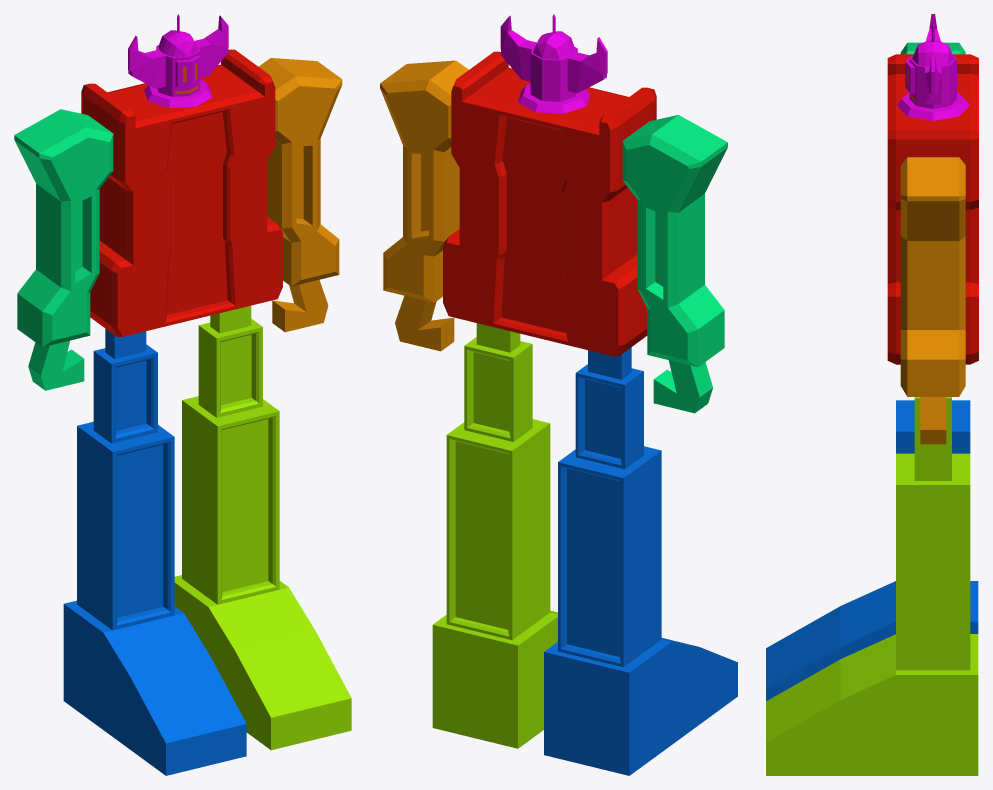
File: RobotV3.fbx
The picture shows the model from 3 angles, left to right: view 1: azimuth 30°, elevation 25°; view 2: azimuth 150°, elevation 25°; view 3: azimuth 270°, elevation 25°; orthographic projection. The views are drawn at different scales.
Parts seen in each view (by area): view 1: RobotFull; view 2: RobotFull; view 3: RobotFull.
Boxes of the visible parts, x1,y1,x2,y2 form: RobotFull: (14, 14, 351, 775); RobotFull: (380, 14, 737, 775); RobotFull: (766, 14, 978, 775).
Size of the model in its own units: 196 by 419 by 115.
